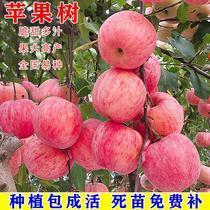apple: (97, 10, 157, 69), (141, 132, 202, 190), (90, 67, 146, 123), (91, 121, 142, 174), (34, 97, 82, 151), (131, 93, 184, 135), (24, 138, 74, 179), (1, 99, 37, 138)
